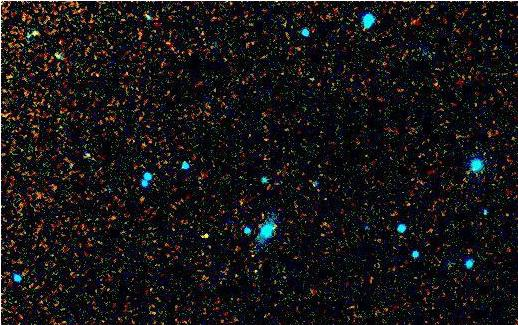star: (191, 219, 221, 249)
